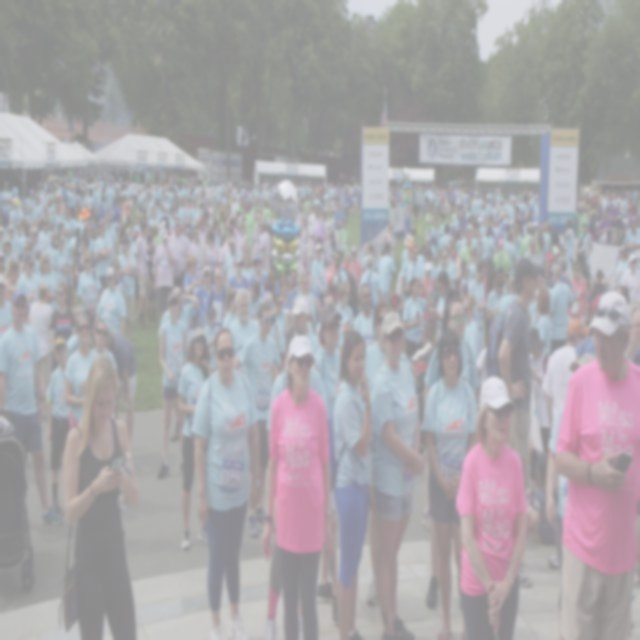pessoa: (554, 290, 640, 640), (16, 96, 350, 168), (260, 332, 334, 639), (61, 354, 139, 639), (192, 326, 262, 640), (261, 327, 328, 639), (456, 373, 530, 640), (422, 326, 480, 640), (424, 286, 480, 610), (369, 310, 422, 640), (36, 167, 364, 220), (363, 298, 418, 604), (545, 350, 597, 640), (332, 328, 374, 640), (232, 303, 284, 540), (498, 257, 541, 495), (312, 300, 342, 605), (389, 178, 543, 232), (177, 326, 214, 550), (157, 292, 188, 480), (545, 317, 590, 431), (62, 310, 100, 432), (527, 325, 552, 507), (46, 333, 70, 517), (102, 325, 138, 445), (26, 280, 54, 423), (576, 185, 640, 236), (525, 452, 559, 545), (228, 287, 260, 376), (48, 280, 76, 376), (158, 285, 198, 349), (402, 276, 433, 358), (93, 266, 127, 338), (548, 264, 574, 356), (573, 294, 602, 369), (78, 250, 101, 344), (153, 228, 176, 320), (36, 252, 58, 345), (117, 236, 136, 342), (220, 224, 242, 306), (92, 319, 120, 383), (316, 291, 344, 355), (468, 260, 488, 349), (134, 220, 150, 330), (290, 296, 319, 354), (291, 272, 321, 328), (431, 268, 451, 351), (168, 217, 190, 290), (354, 282, 378, 348), (400, 242, 416, 340), (418, 261, 436, 348), (3, 256, 33, 308), (193, 266, 216, 330), (566, 260, 588, 326), (378, 241, 398, 312), (16, 252, 42, 306), (358, 254, 382, 312), (183, 255, 202, 328), (94, 217, 112, 293), (486, 274, 508, 336), (334, 280, 356, 340), (206, 268, 227, 330), (534, 284, 552, 355), (462, 293, 480, 362), (50, 232, 72, 288), (204, 306, 221, 372), (188, 224, 208, 280), (222, 236, 242, 292), (312, 242, 328, 310), (624, 301, 640, 367), (146, 232, 157, 326), (578, 220, 594, 284), (446, 236, 464, 292), (493, 238, 511, 294), (0, 272, 15, 339), (204, 228, 221, 285), (248, 256, 270, 300), (290, 223, 307, 278), (498, 274, 518, 320), (622, 254, 640, 304), (334, 251, 350, 305), (131, 229, 141, 315), (418, 248, 437, 290), (104, 212, 119, 264), (228, 254, 249, 291), (23, 225, 44, 262), (520, 221, 540, 259), (437, 248, 455, 290), (346, 245, 362, 292), (482, 256, 497, 305), (222, 286, 238, 331), (246, 280, 264, 320), (590, 268, 610, 304), (438, 222, 454, 267), (258, 219, 273, 267), (243, 203, 254, 268), (614, 244, 630, 288), (323, 270, 341, 308), (278, 274, 294, 316), (16, 219, 32, 261), (406, 244, 419, 294), (2, 236, 21, 270), (260, 268, 279, 301), (68, 234, 81, 282), (502, 232, 516, 276), (312, 204, 327, 245), (624, 218, 640, 256), (252, 211, 264, 261), (563, 218, 576, 264), (361, 240, 378, 274), (112, 258, 128, 294), (598, 211, 614, 246), (10, 199, 24, 238), (240, 250, 256, 284), (77, 222, 95, 252), (575, 203, 590, 239), (110, 194, 121, 243), (460, 228, 474, 266), (338, 216, 352, 253), (50, 200, 66, 232), (19, 240, 34, 274), (188, 198, 202, 234), (30, 192, 44, 228), (522, 236, 538, 267), (305, 234, 317, 274), (38, 216, 52, 250), (236, 220, 250, 254), (400, 233, 414, 267), (35, 202, 52, 230), (334, 200, 344, 247), (45, 230, 58, 266), (414, 242, 427, 278), (468, 246, 480, 285), (24, 188, 37, 224), (558, 255, 572, 288), (424, 204, 434, 250), (544, 252, 556, 290), (482, 224, 494, 262), (12, 219, 25, 254), (286, 268, 299, 302), (315, 234, 328, 268), (118, 227, 134, 254), (328, 230, 340, 266), (62, 208, 74, 244), (70, 206, 82, 242), (78, 207, 91, 240), (386, 220, 396, 262), (558, 244, 572, 274), (1, 180, 12, 218), (55, 222, 68, 252), (512, 223, 522, 262), (460, 262, 470, 300), (168, 204, 180, 234), (403, 203, 413, 239), (178, 196, 190, 225), (121, 193, 131, 227), (147, 204, 160, 230), (198, 214, 208, 247), (262, 198, 273, 227), (163, 192, 171, 230), (156, 201, 166, 230), (260, 251, 271, 277), (299, 218, 310, 244), (214, 220, 223, 248), (97, 194, 106, 222), (132, 211, 142, 236), (551, 246, 561, 270), (588, 212, 596, 242), (455, 228, 464, 254), (546, 221, 554, 250), (146, 188, 154, 217), (430, 218, 440, 240), (234, 194, 244, 216), (438, 212, 446, 238), (473, 226, 482, 248), (207, 197, 215, 221), (544, 268, 552, 291), (10, 184, 20, 202), (218, 232, 227, 250), (503, 222, 511, 242), (0, 224, 5, 252), (6, 223, 14, 240), (532, 220, 540, 237), (155, 197, 161, 216)
